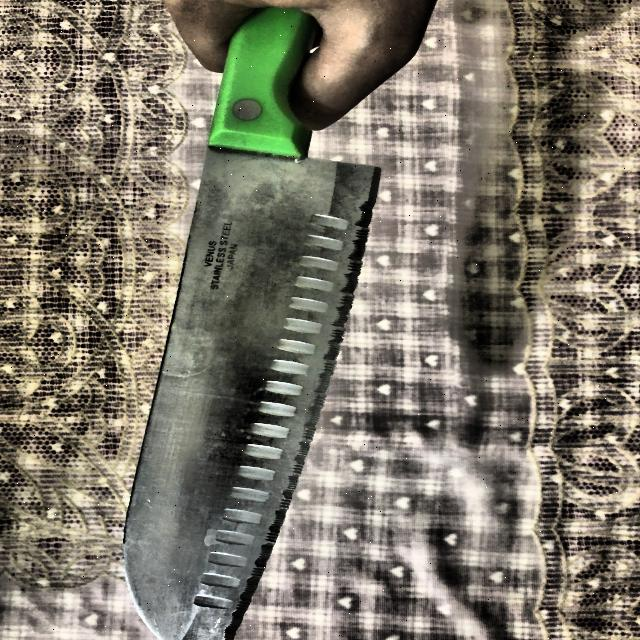knife: (119, 9, 379, 640)
